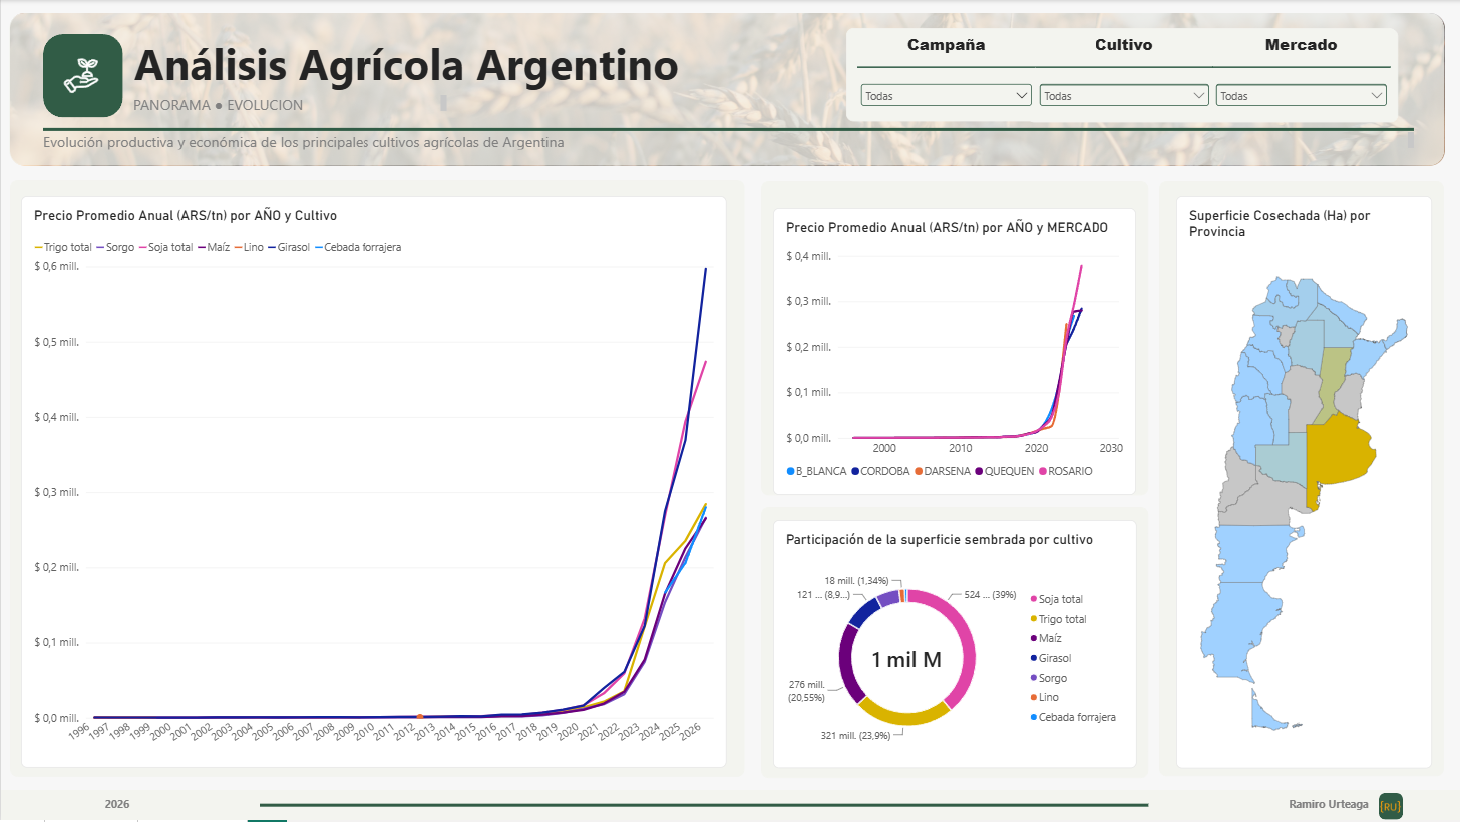

The dashboard page shown, as its layout file describes it:
{"tool":"powerbi","page":{"name":"Evolución","canvas":[1920,1080],"ordinal":1},"visuals":[{"type":"image","box":[11.6,17.2,1886.8,201.2],"z":0},{"type":"shape","box":[11.1,17,1887.8,201.1],"z":1000},{"type":"shape","box":[55,45,105,110],"z":2000},{"type":"image","box":[80.6,73.9,50,52.2],"z":3000},{"type":"textbox","box":[175,45,823.3,80],"z":4000},{"type":"shape","box":[55,155,1803.3,30],"z":5000},{"type":"textbox","box":[55,173.3,1803.3,23.3],"z":6000},{"type":"image","box":[1652.3,1045.4,26.9,29.2],"z":7000},{"type":"shape","box":[0,1040,1920,40],"z":8000},{"type":"shape","box":[340,1040,1170,40],"z":9000},{"type":"textbox","box":[1593.3,1050,305.6,30],"z":10000},{"type":"textbox","box":[0,1050,305.6,30],"z":11000},{"type":"shape","box":[11.2,237.5,966.2,786.2],"z":12000},{"type":"lineChart","fields":{"Category":["FactPreciosAnuales.AÑO"],"Series":["DimCultivosPrecios.Cultivo"],"Y":["FactPreciosAnuales.Precio Promedio Anual (ARS/tn)"]},"box":[26.7,258.3,928.3,753.3],"z":13000},{"type":"textbox","box":[174.3,125.7,412.9,22.9],"z":14000},{"type":"shape","box":[1000,238,510,414],"z":15000},{"type":"lineChart","fields":{"Category":["FactPreciosAnuales.AÑO"],"Series":["FactPreciosAnuales.MERCADO"],"Y":["FactPreciosAnuales.Precio Promedio Anual (ARS/tn)"]},"box":[1015.9,273.6,478,378],"z":16000},{"type":"shape","box":[1348.8,38.8,488.8,122.5],"z":17000},{"type":"shape","box":[1524.3,238.6,374.3,784.3],"z":18000},{"type":"shapeMap","title":"Superficie Cosechada (Ha) por Provincia","fields":{"Category":["DimGeografia.Provincia"],"Value":["Sum(Estimaciones Agrícolas.Sup. Sembrada (Ha))"]},"box":[1546,258,336,754],"z":19000},{"type":"shape","box":[1111.4,37.1,724.3,122.9],"z":20000},{"type":"shape","box":[1000,667.1,510,357.1],"z":21000},{"type":"shape","box":[1812.5,1045,31.7,35],"z":22000},{"type":"donutChart","title":"Participación de la superficie sembrada por cultivo","fields":{"Category":["DimCultivosPrecios.Cultivo"],"Y":["Sum(Estimaciones Agrícolas.Sup. Sembrada (Ha))"]},"box":[1015.7,684.3,478.6,327.1],"z":23000},{"type":"slicer","title":"Campaña","fields":{"Values":["DimCampañas.Campana"]},"box":[1126.2,43.8,233.8,111.2],"z":24000},{"type":"slicer","title":"Cultivo","fields":{"Values":["DimCultivosPrecios.Cultivo"]},"box":[1360,43.8,233.8,111.2],"z":25000},{"type":"slicer","title":"Mercado","fields":{"Values":["FactPreciosAnuales.MERCADO"]},"box":[1593.8,43.8,233.8,111.2],"z":26000},{"type":"image","box":[1811.3,1045.3,33.3,33.3],"z":27000}]}

Visuals, with their boxes in screenshot pixels (x1, y1, x2, y2), scaled from the page's 1920x1080 canvas onto the 1460x822 screenshot:
image: locate(9, 13, 1444, 166)
shape: locate(8, 13, 1444, 166)
shape: locate(42, 34, 122, 118)
image: locate(61, 56, 99, 96)
textbox: locate(133, 34, 759, 95)
shape: locate(42, 118, 1413, 141)
textbox: locate(42, 132, 1413, 150)
image: locate(1256, 796, 1277, 818)
shape: locate(0, 792, 1459, 821)
shape: locate(259, 792, 1148, 821)
textbox: locate(1212, 799, 1444, 821)
textbox: locate(0, 799, 232, 821)
shape: locate(9, 181, 743, 779)
lineChart - FactPreciosAnuales.AÑO x DimCultivosPrecios.Cultivo: locate(20, 197, 726, 770)
textbox: locate(133, 96, 447, 113)
shape: locate(760, 181, 1148, 496)
lineChart - FactPreciosAnuales.AÑO x FactPreciosAnuales.MERCADO: locate(773, 208, 1136, 496)
shape: locate(1026, 30, 1397, 123)
shape: locate(1159, 182, 1444, 779)
"Superficie Cosechada (Ha) por Provincia" shapeMap: locate(1176, 196, 1431, 770)
shape: locate(845, 28, 1396, 122)
shape: locate(760, 508, 1148, 780)
shape: locate(1378, 795, 1402, 821)
"Participación de la superficie sembrada por cultivo" donutChart: locate(772, 521, 1136, 770)
"Campaña" slicer: locate(856, 33, 1034, 118)
"Cultivo" slicer: locate(1034, 33, 1212, 118)
"Mercado" slicer: locate(1212, 33, 1390, 118)
image: locate(1377, 796, 1403, 821)
